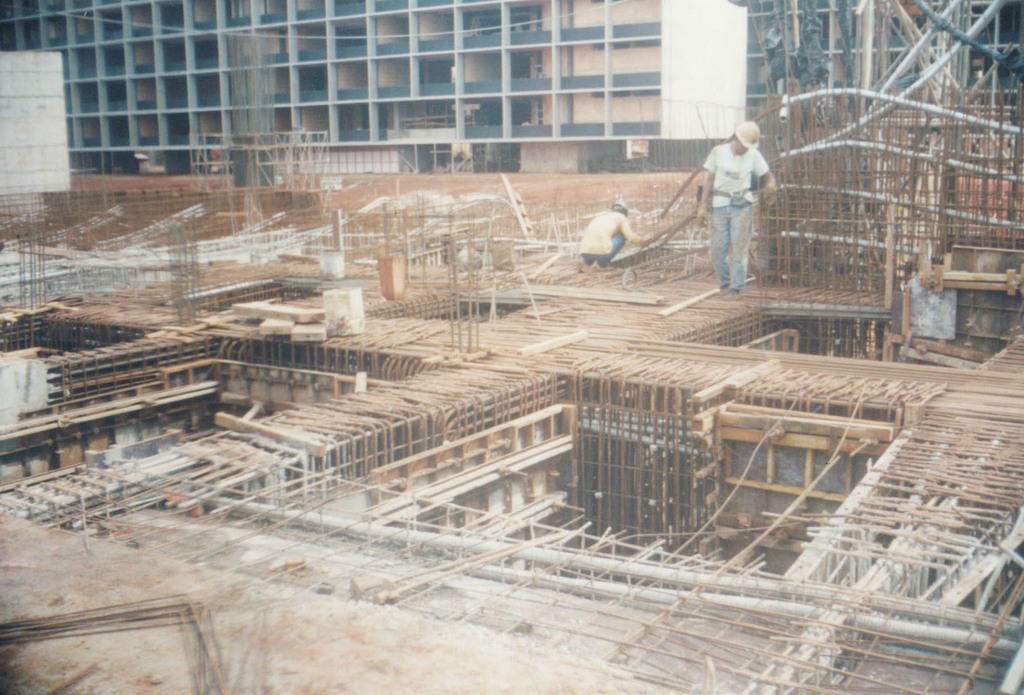person: (578, 199, 646, 271)
